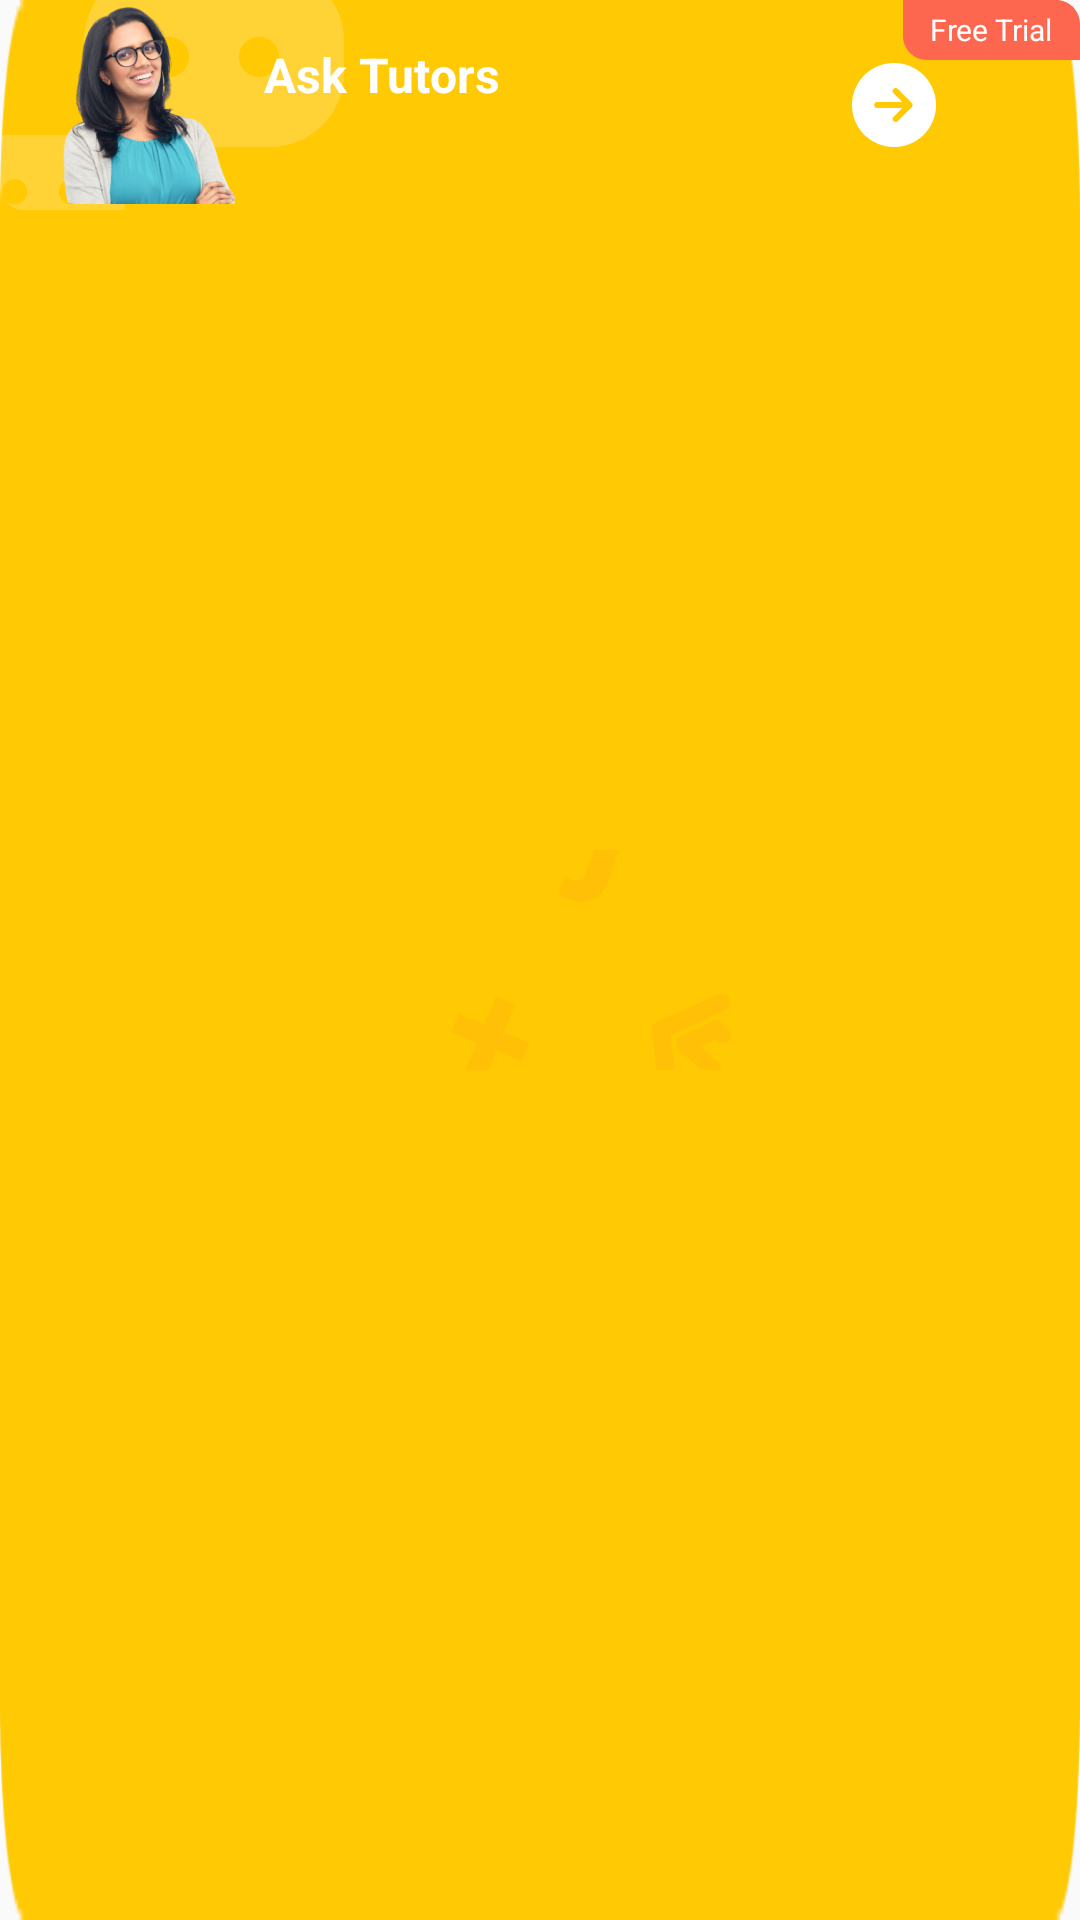

Where to tap for icons on this 1080×1920 app screen, as [x,y]:
arrow: [894,105]
